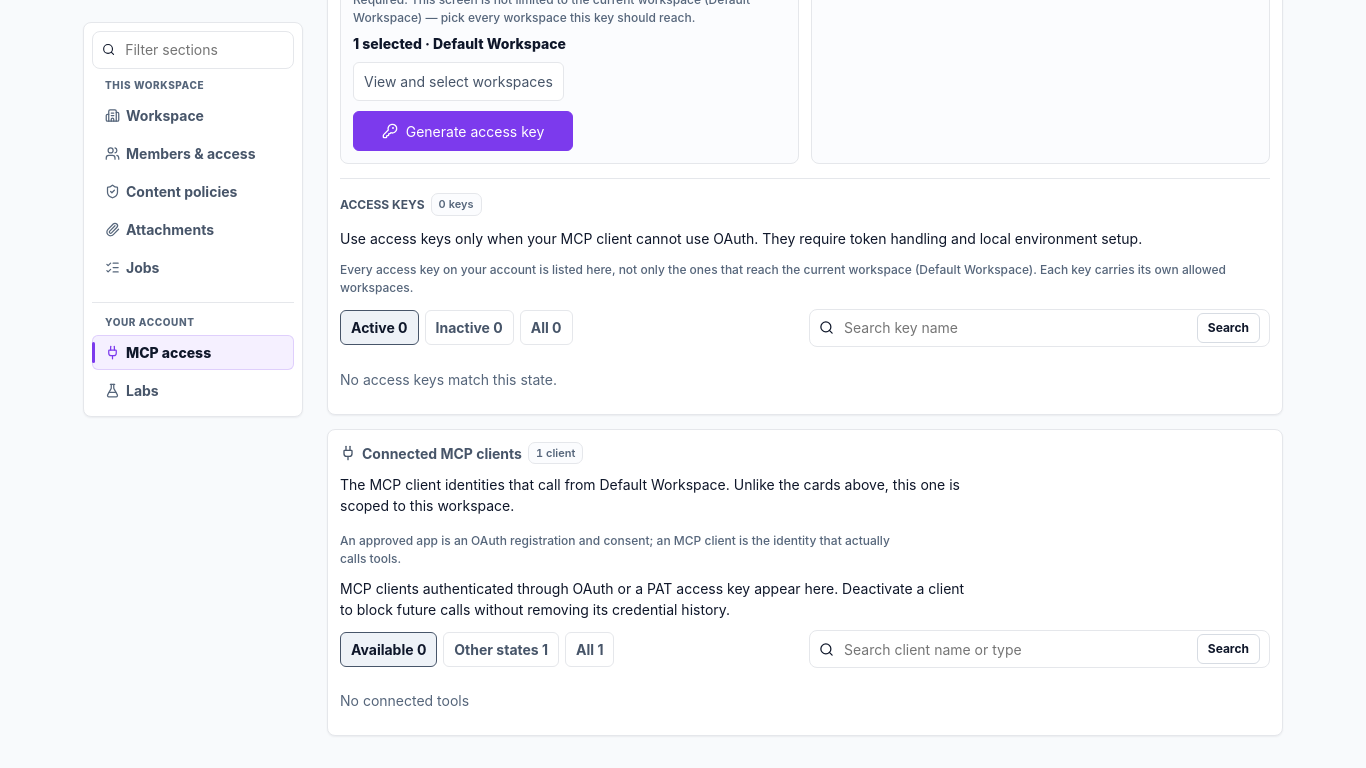
Test: SettingsScreen › deletes a deactivated MCP client through the dedicated tombstone endpoint
(page scrolled)
Step 1. Click the radio button labelled "Other states 1" → [501, 649], box [443, 632, 559, 667]
(page scrolled)
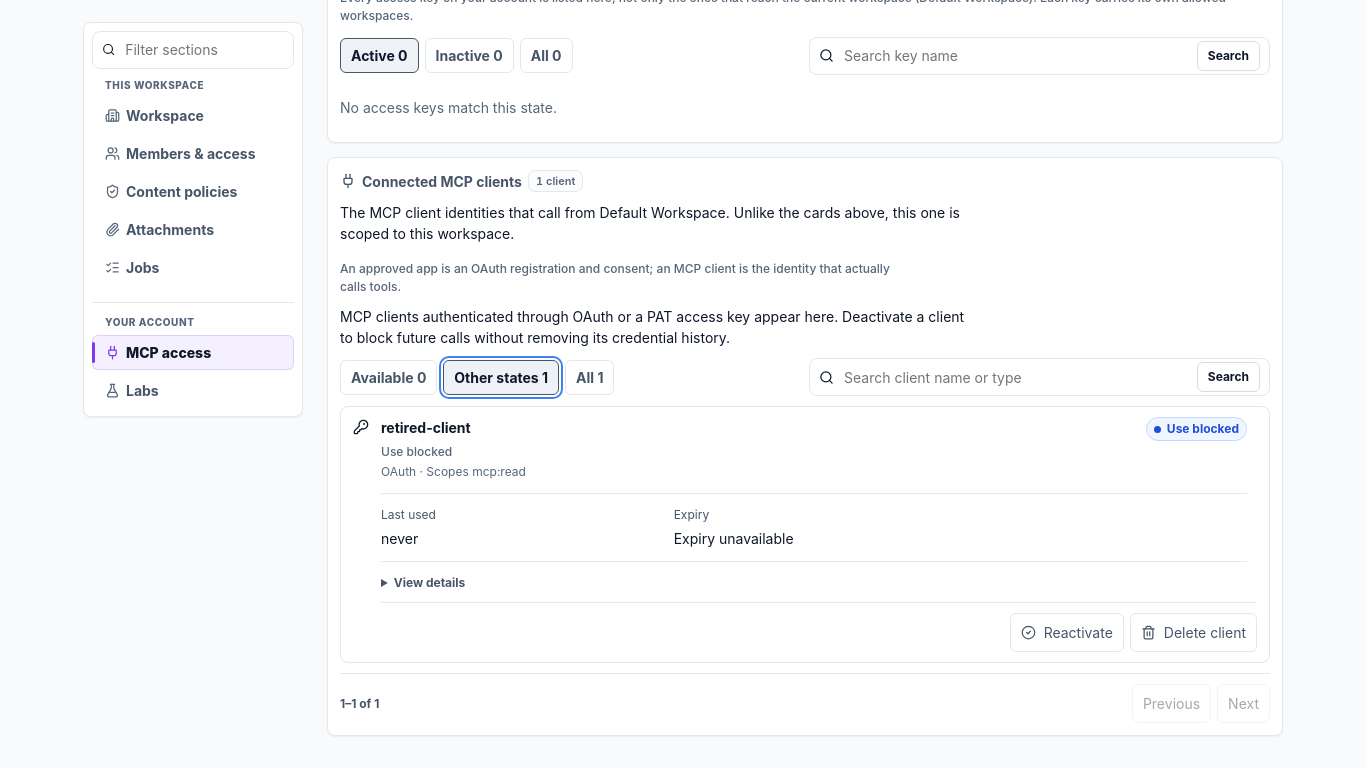
Now the text "retired-client" is shown, box [381, 417, 471, 438]
Step 2. Click the button with aria-label "Delete client retired-client" → [1193, 633], box [1130, 613, 1257, 652]
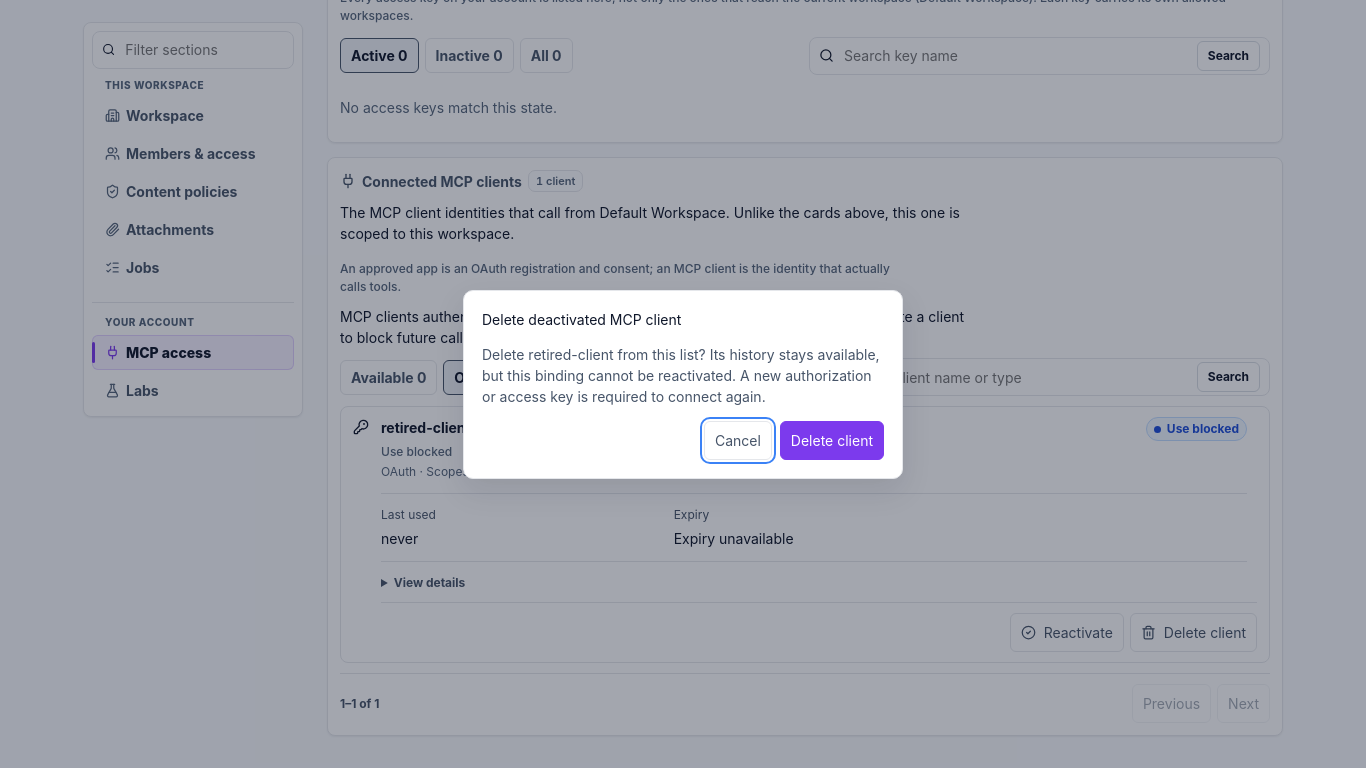
Now the dialog "Delete deactivated MCP client" shows "Its history stays available", box [482, 346, 880, 404]
Step 3. Click the button "Delete client" → [832, 440], box [780, 420, 884, 460]
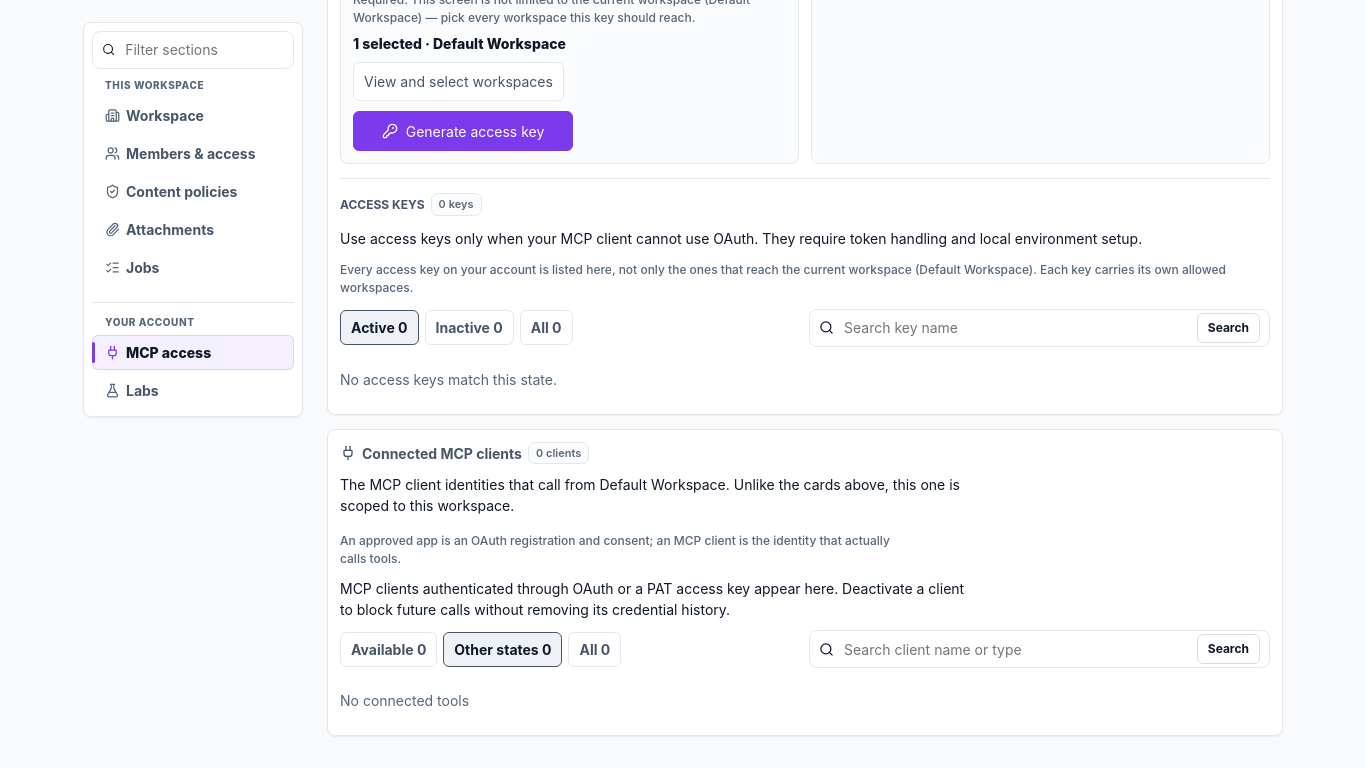
Now the text "No connected tools" is shown, box [340, 692, 469, 709]
